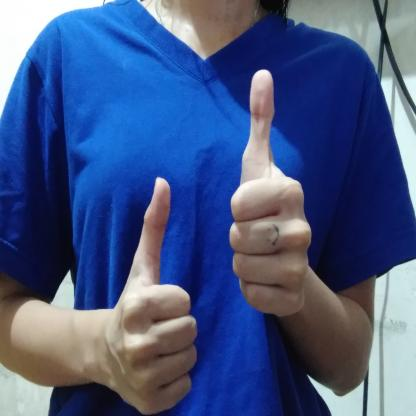which: (106, 66, 314, 416)
